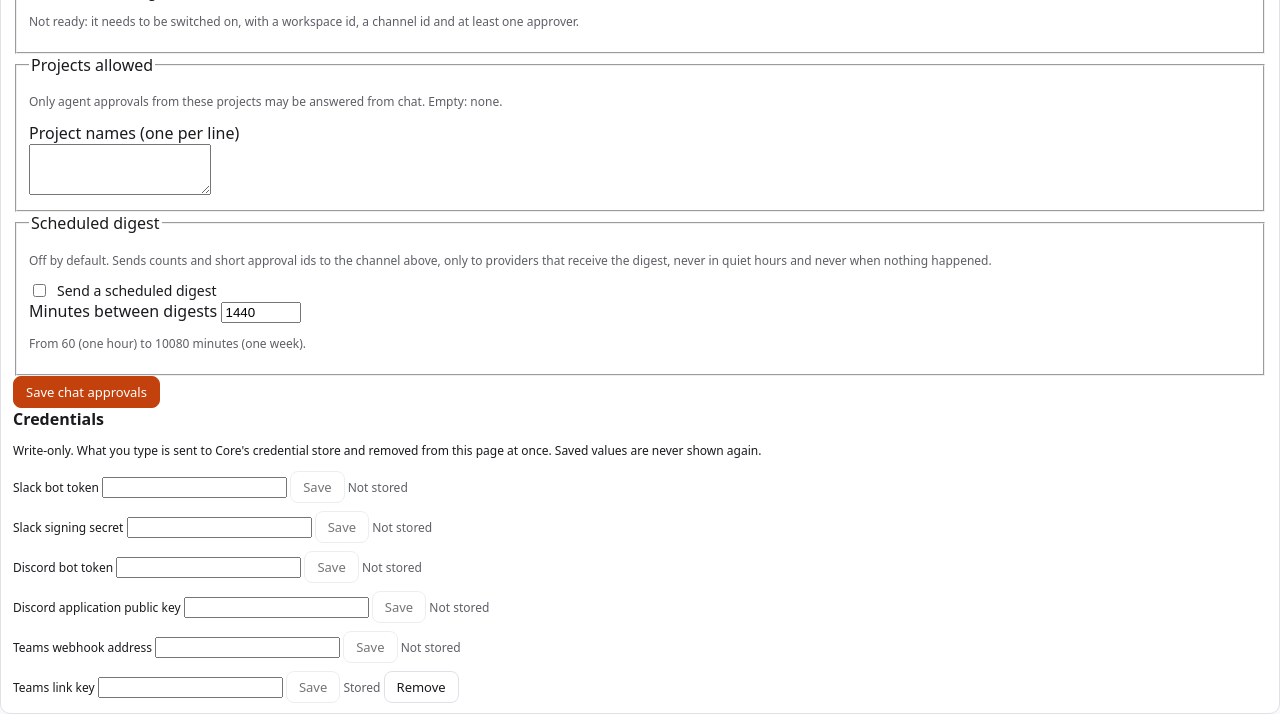
Test case: ChatApprovalsSection › shows the stored mark from Core's secret list and removes a stored secret
This screenshot has width=1280, height=714.
(page scrolled)
Expected: the message "Stored" is shown, [343,679,380,696]
Expected: the message "Not stored" in the row of "Slack bot token" is shown, [348,479,408,496]
Click the button with aria-label "Remove stored Teams link key": click(421, 687) [384,671,459,703]
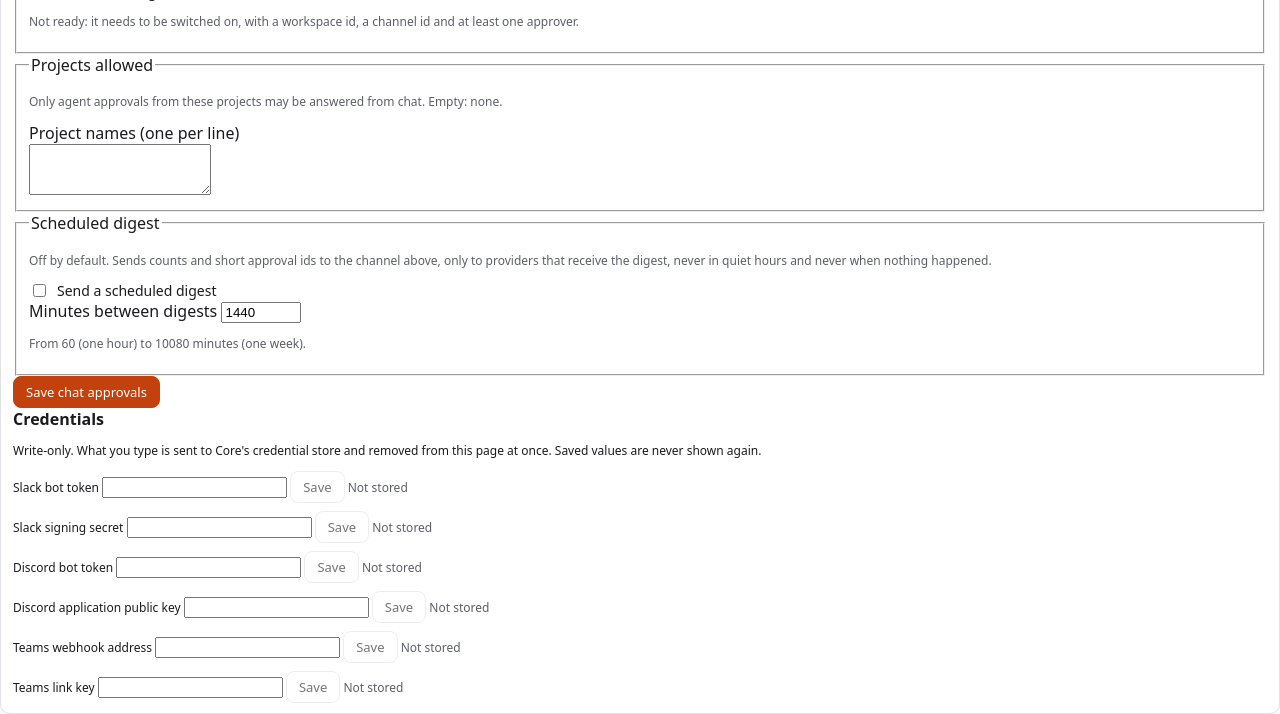
Now the message "Not stored" in the row of "Teams link key" is shown, box [343,679,403,696]
